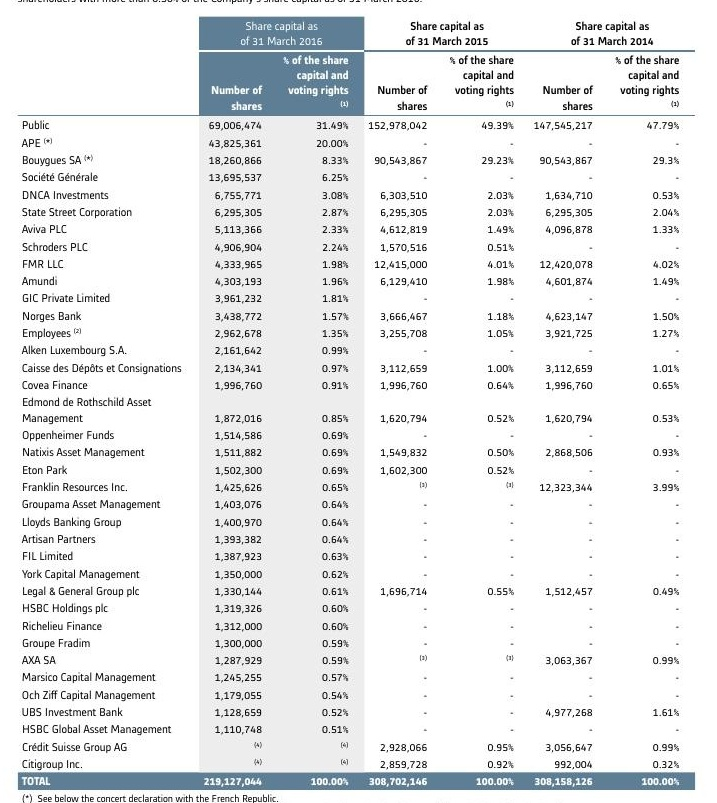table: (0, 0, 717, 803)
